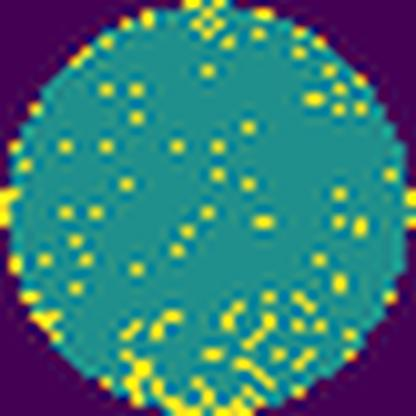Edge-Loc: (115, 347, 268, 416)
